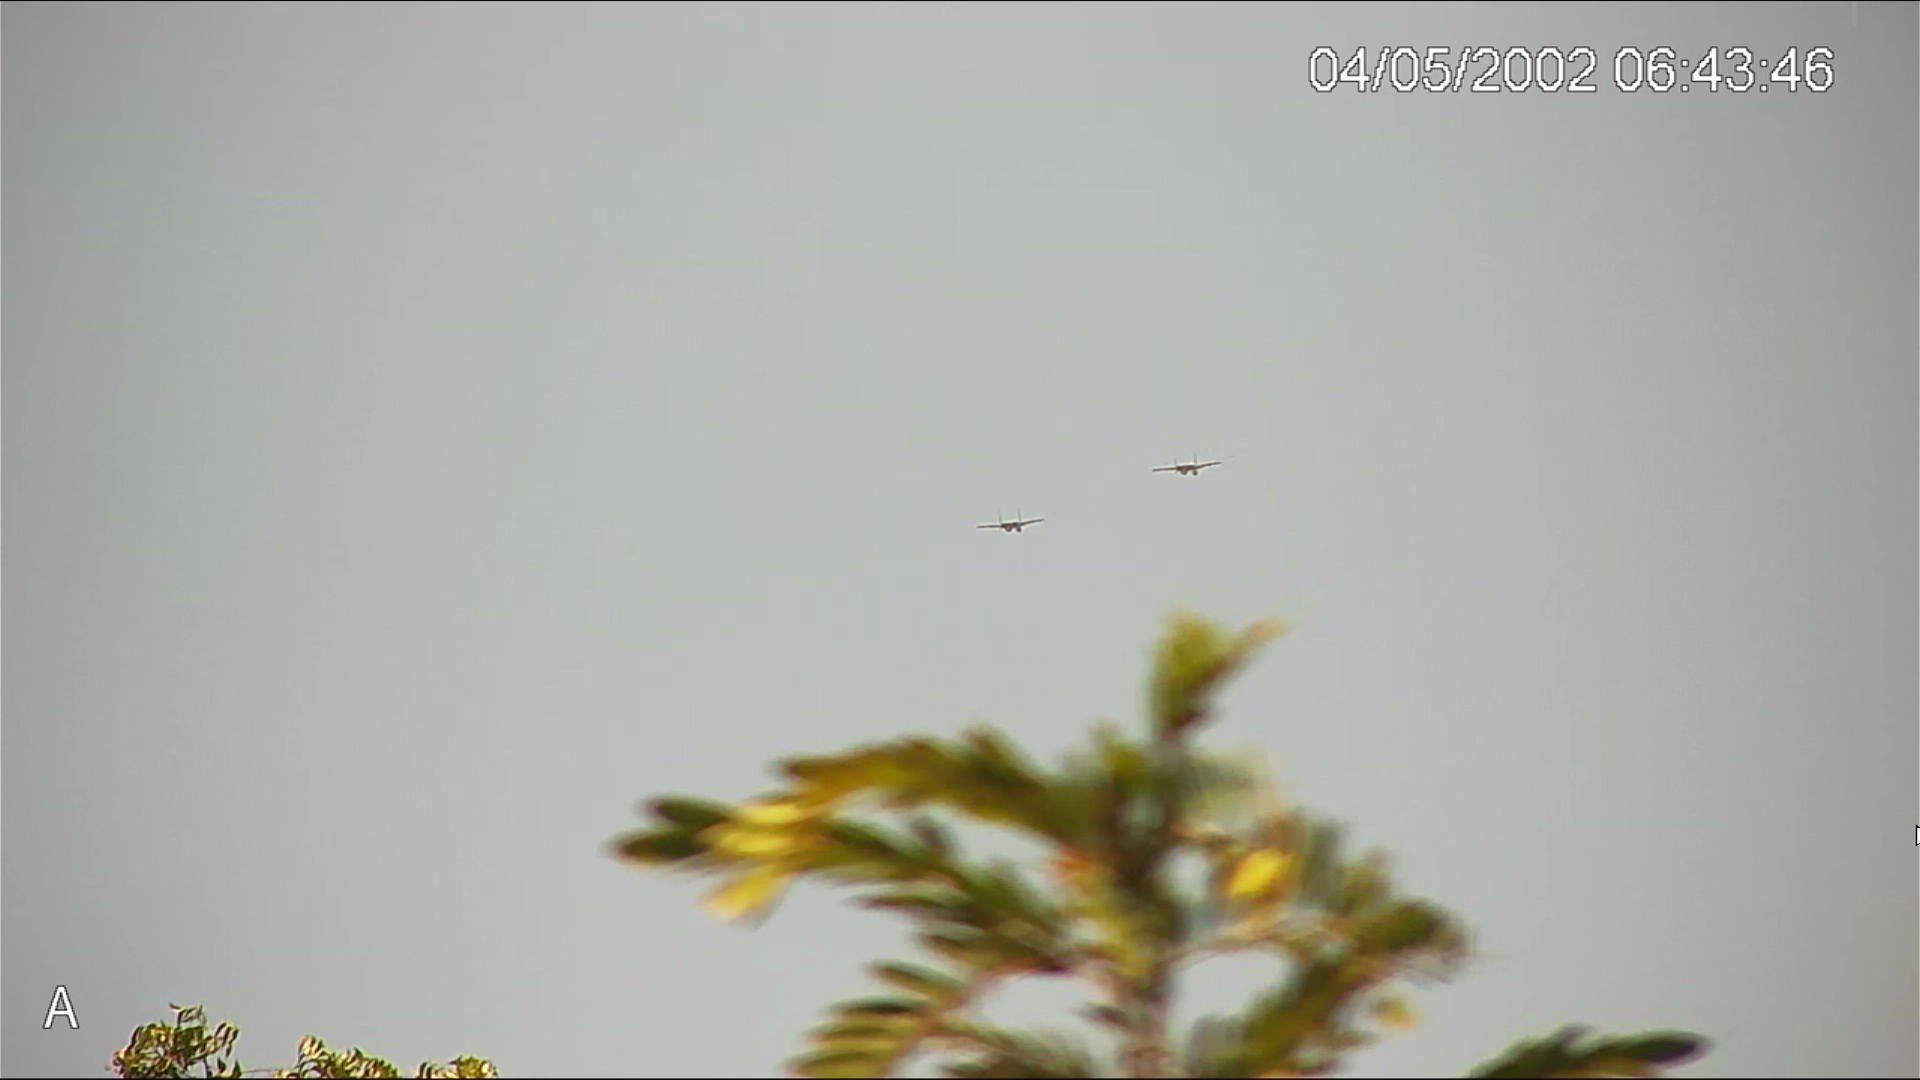SU_30: (1153, 448, 1222, 484), (971, 506, 1046, 539)
